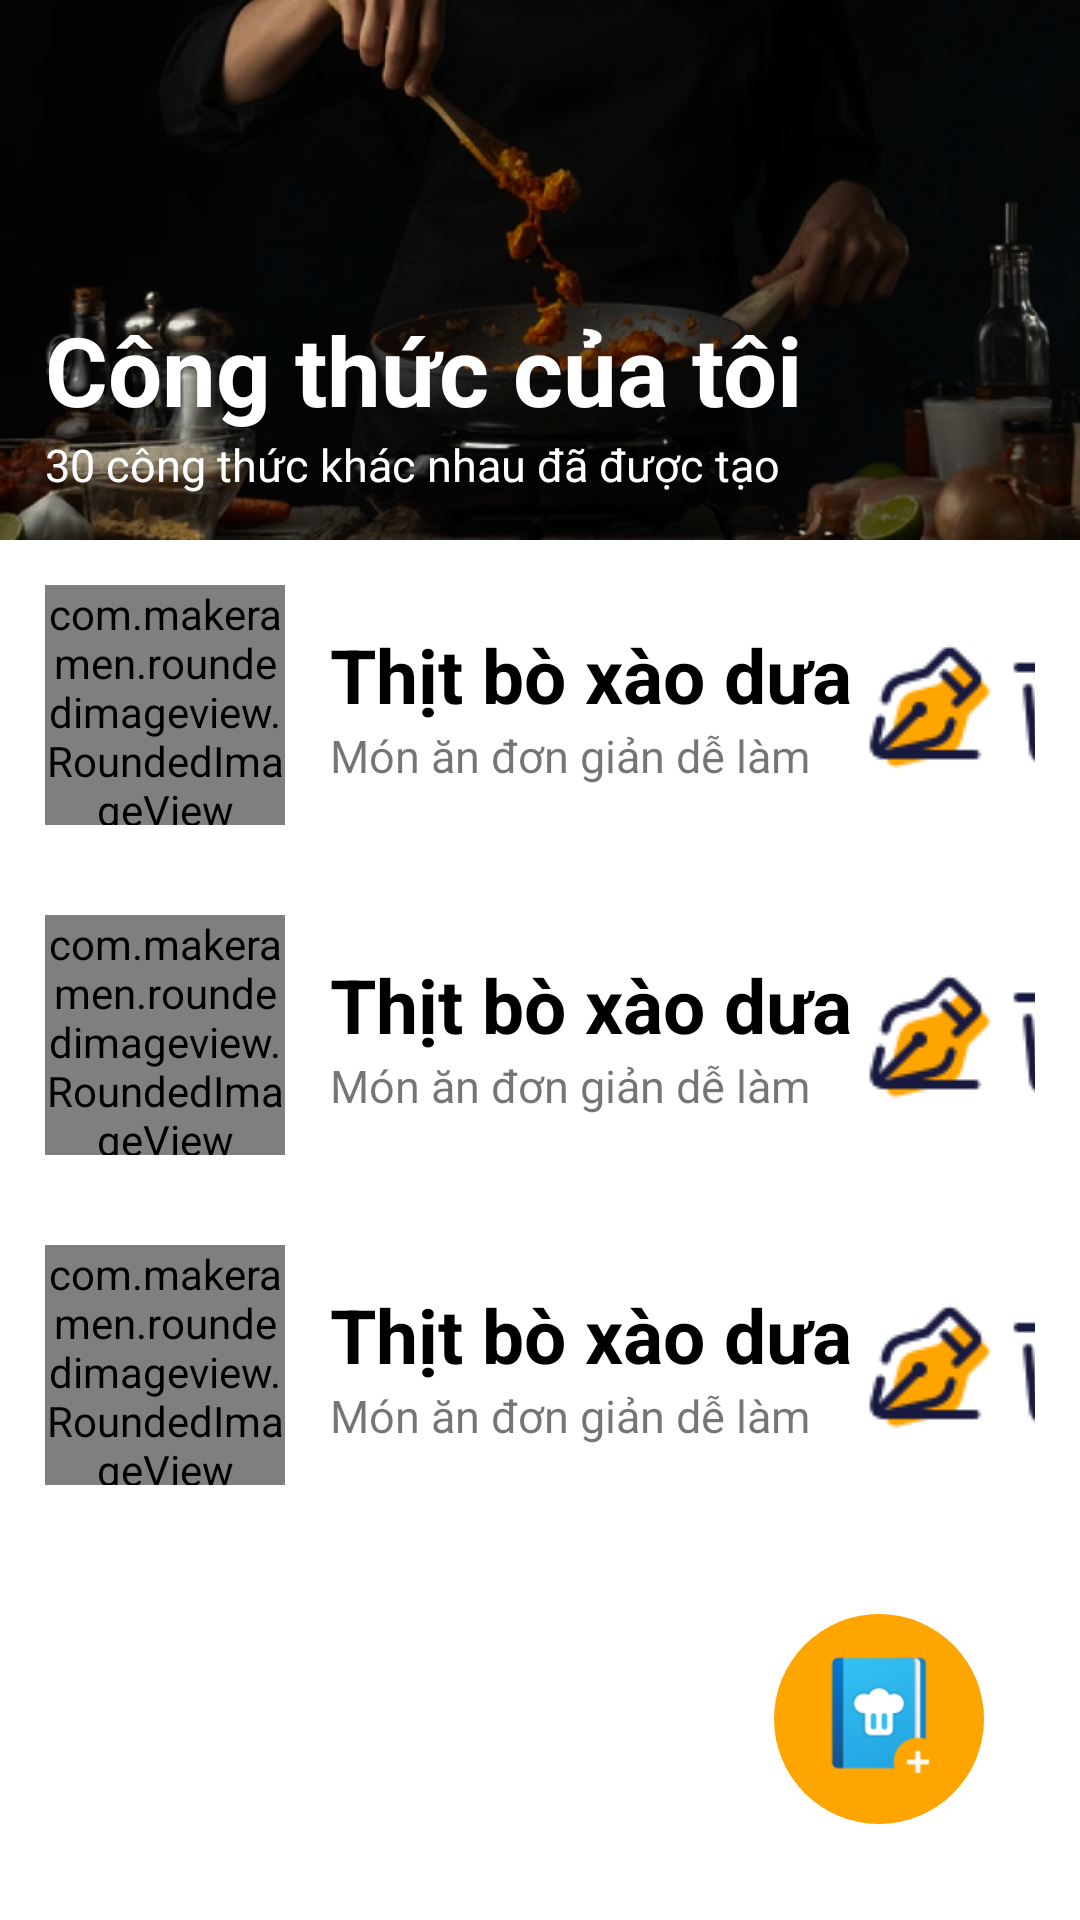

Icons on this 1080w x 1920h Android screen, each with the point to tap as (x=x, y=y):
add recipe: (x=880, y=1715)
edit: (x=930, y=707), (x=930, y=1037), (x=930, y=1367)
